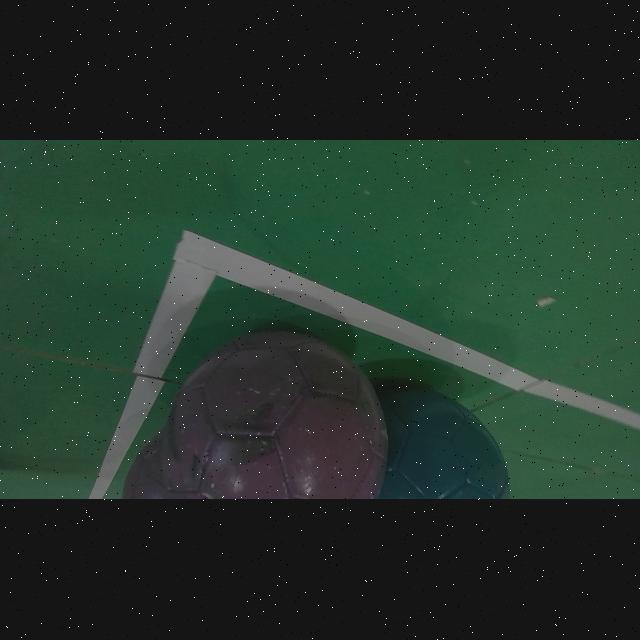B: (378, 390, 510, 500)
P: (162, 333, 388, 500), (121, 432, 168, 500)
